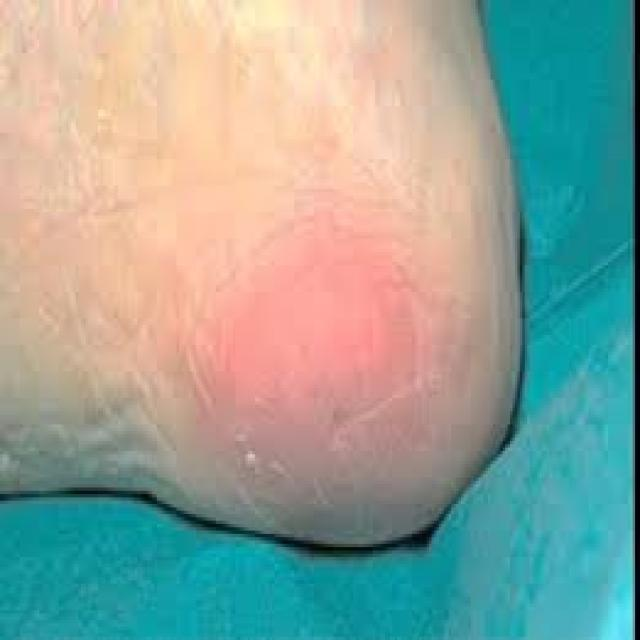stage-1: (202, 230, 430, 469)
